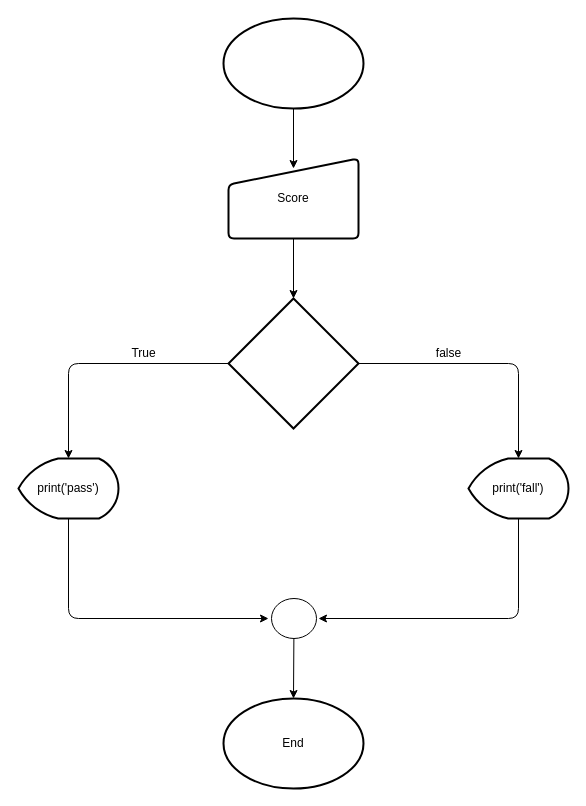
Some shapes in this 586 by 806 pixel diagram are drawn without their labels. The shapes that lost their labels are listed below. From the top down, each one's box as (x1, y1, x2, y2) in pixels, then its label:
(222, 17, 364, 109): begin
(227, 297, 359, 429): score>=50
